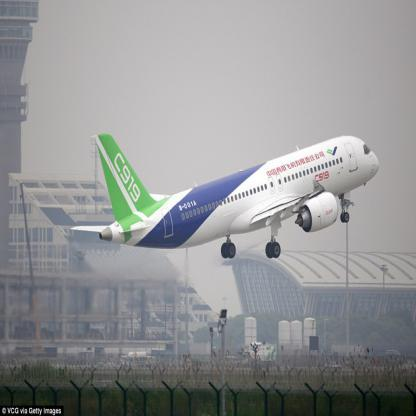CIV_Plane: (66, 128, 387, 266)
